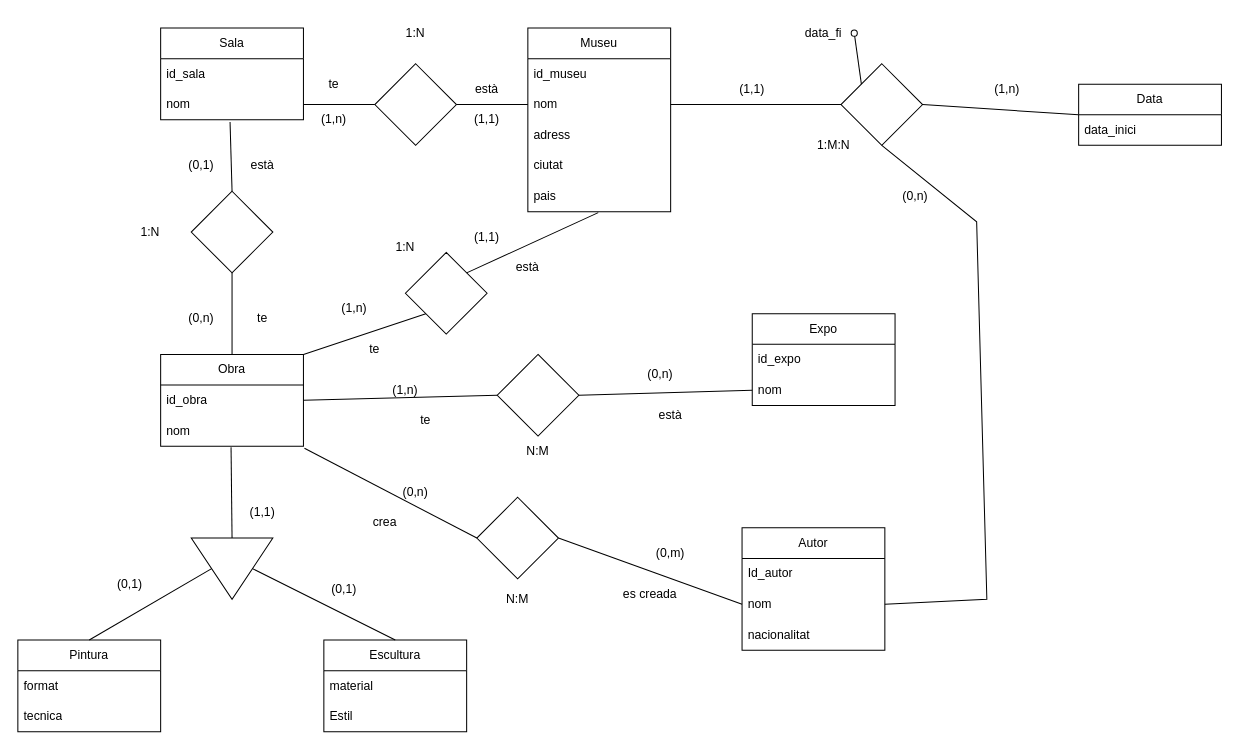
Some shapes in this 1239 by 750 pixel diagram are drawn without their labels. The centre of each missing label's shape, as x and y in pixels:
AutorXMuseu: the point at 881,104
AutorXObra: the point at 517,537
ID: the point at 415,104
ObraXExpo: the point at 537,394
